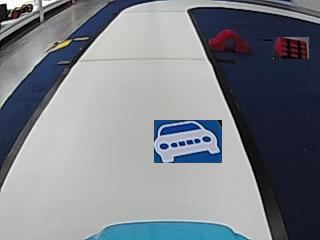bridge: (209, 29, 249, 52)
